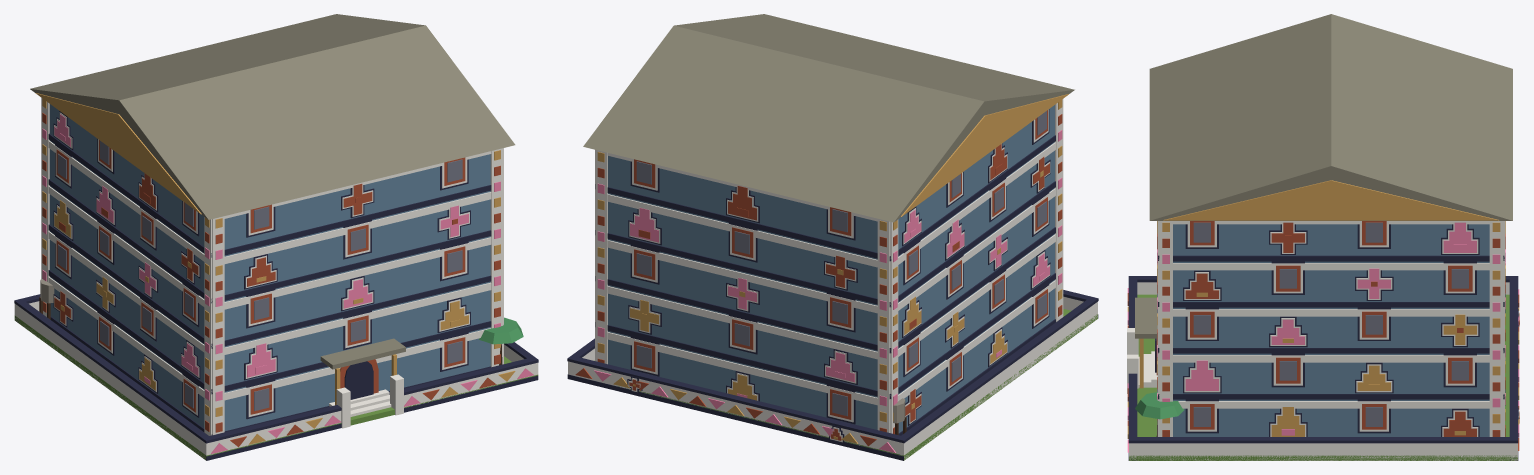
The model's file is house-2x2-5f-ndebele-a.glb.
3 views of the same model, side by side, from view 1: azimuth 30°, elevation 25°; view 2: azimuth 150°, elevation 25°; view 3: azimuth 270°, elevation 25° (orthographic).
Parts seen in each view (by area): view 1: house-2x2-5f-ndebele-a; view 2: house-2x2-5f-ndebele-a; view 3: house-2x2-5f-ndebele-a.
Boxes of the visible parts, x1,y1,x2,y2 form: house-2x2-5f-ndebele-a: (14, 14, 538, 460); house-2x2-5f-ndebele-a: (567, 14, 1098, 460); house-2x2-5f-ndebele-a: (1127, 14, 1519, 460).
Size of the model in its own units: 1.99 by 1.63 by 2.01.
Materials: 1 (1 with a texture image).
